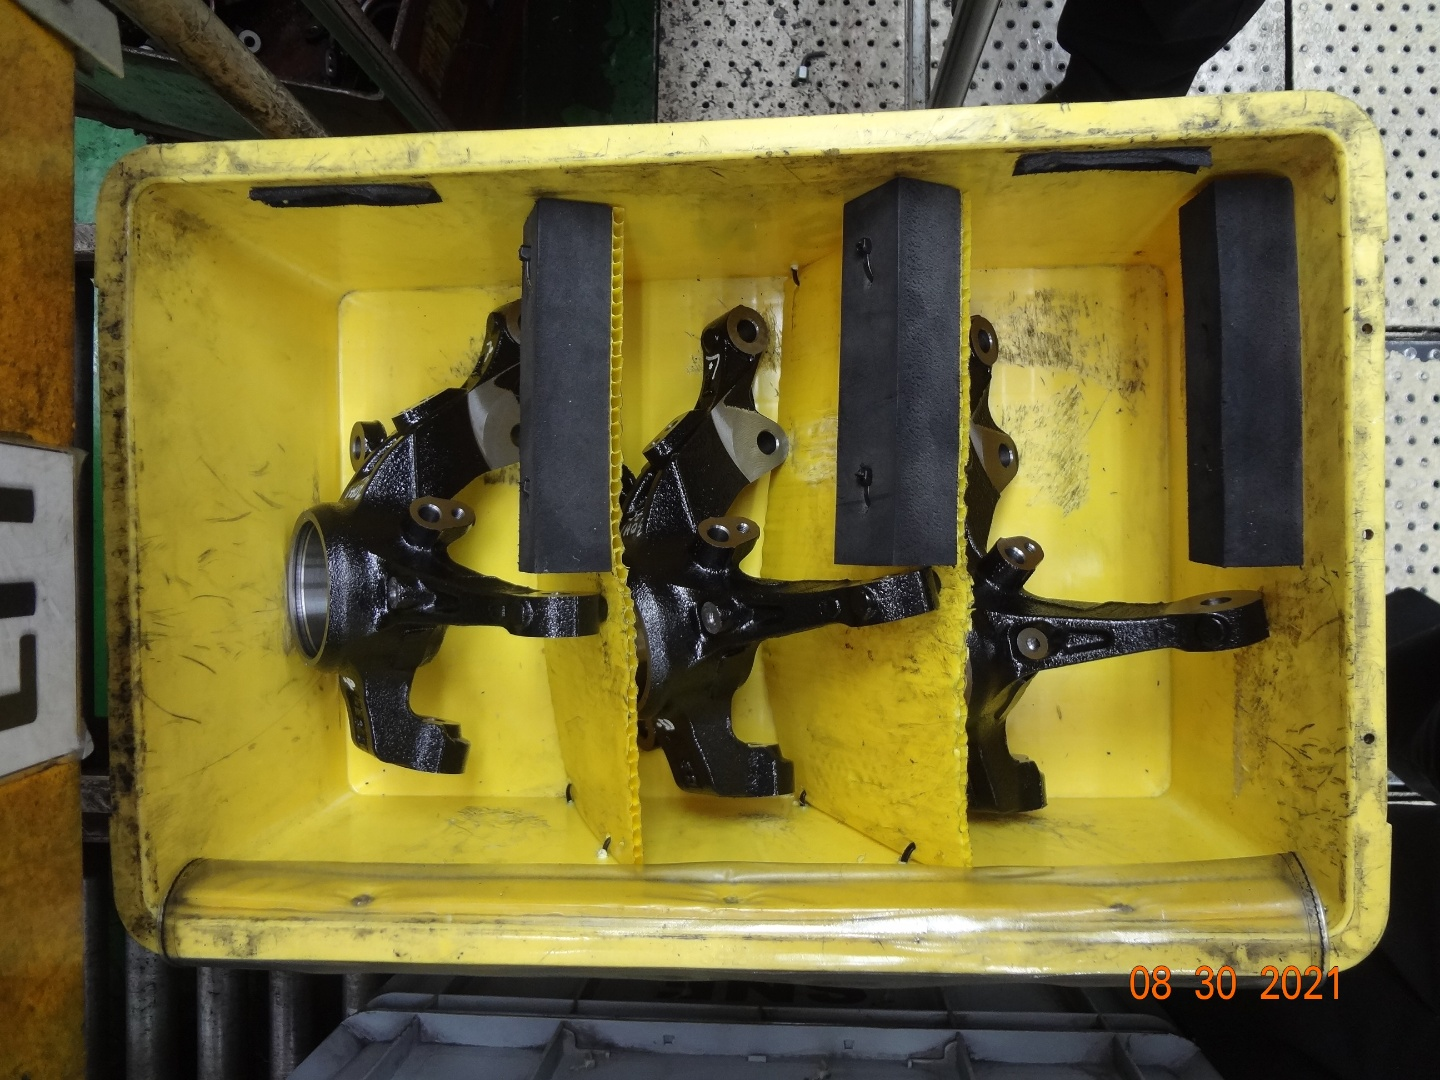abs-lh: (274, 281, 621, 796), (617, 284, 951, 815), (949, 292, 1282, 820)
